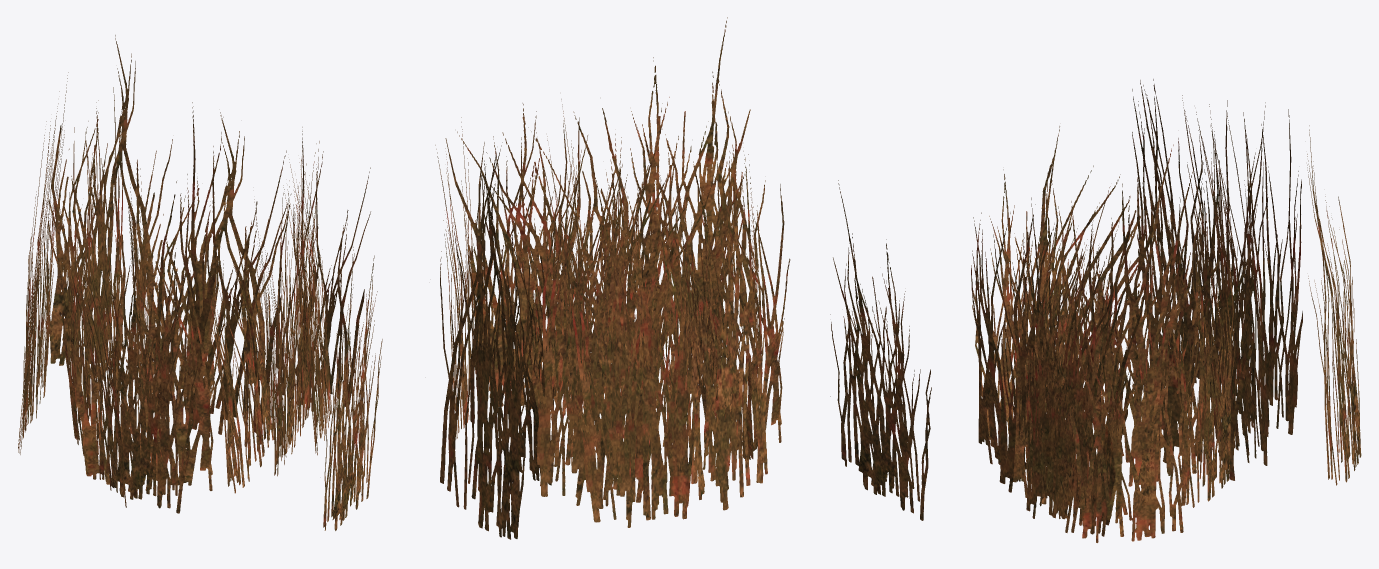
File: grass_3d_02_copper.glb
The picture shows the model from 3 angles, left to right: view 1: azimuth 30°, elevation 25°; view 2: azimuth 150°, elevation 25°; view 3: azimuth 270°, elevation 25°; orthographic projection. The views are drawn at different scales.
Visible parts, largest first — view 1: grass_cards; view 2: grass_cards; view 3: grass_cards.
Part boxes in pixels (x1=…): grass_cards: x1=18, y1=35, x2=382, y2=530; grass_cards: x1=435, y1=17, x2=790, y2=539; grass_cards: x1=830, y1=79, x2=1361, y2=542.
Size of the model in its own units: 0.611 by 0.6851 by 0.8281.
1 material, 1 textured.
